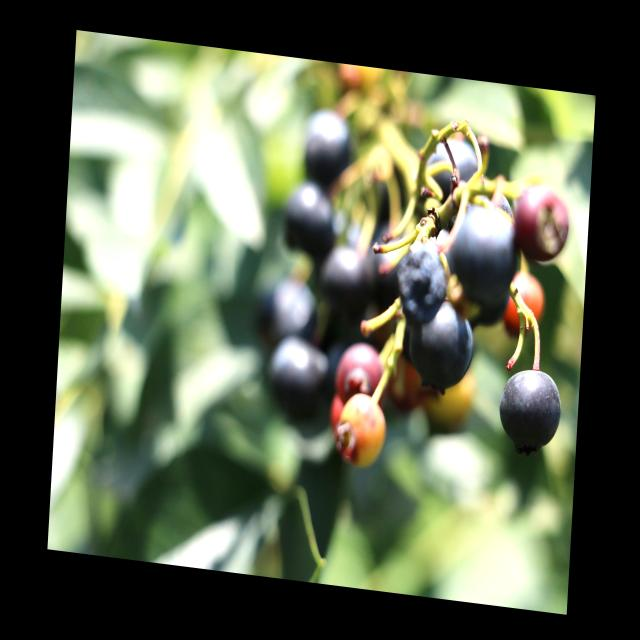blueberry: (444, 200, 528, 308), (402, 288, 479, 399), (493, 361, 566, 465), (262, 326, 333, 422), (294, 96, 362, 190), (393, 234, 452, 333), (276, 175, 341, 262), (262, 270, 327, 356), (416, 125, 486, 204), (321, 240, 375, 318), (366, 223, 411, 314), (480, 185, 529, 248)
blueberry-halfripe: (514, 181, 572, 266), (335, 392, 386, 470), (336, 332, 384, 406), (502, 267, 546, 335)
